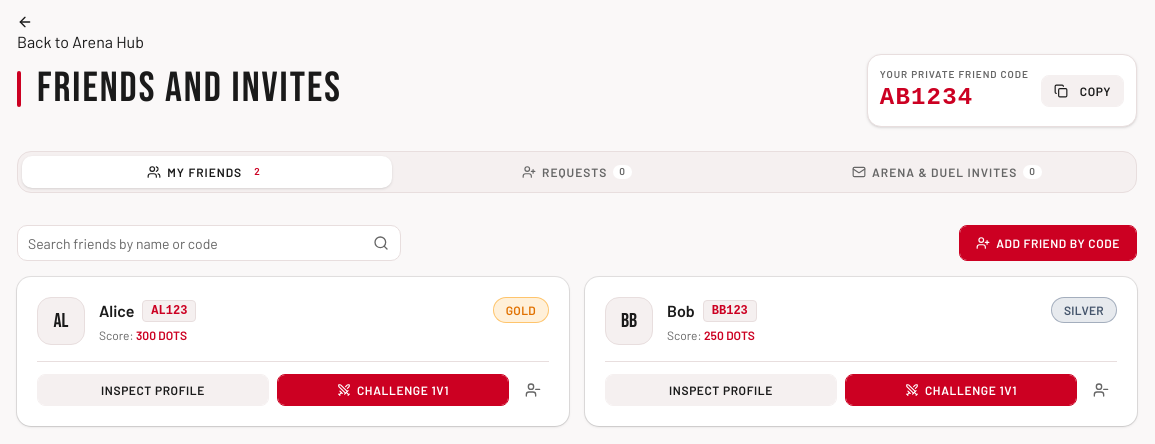
PgFriends › filters friends by search
expect the text "Alice" is shown: met, box [99, 299, 134, 323]
Step 1. Type "ali" into the field with placeholder "Search friends by name or code" → (209, 243), box [17, 225, 401, 261]
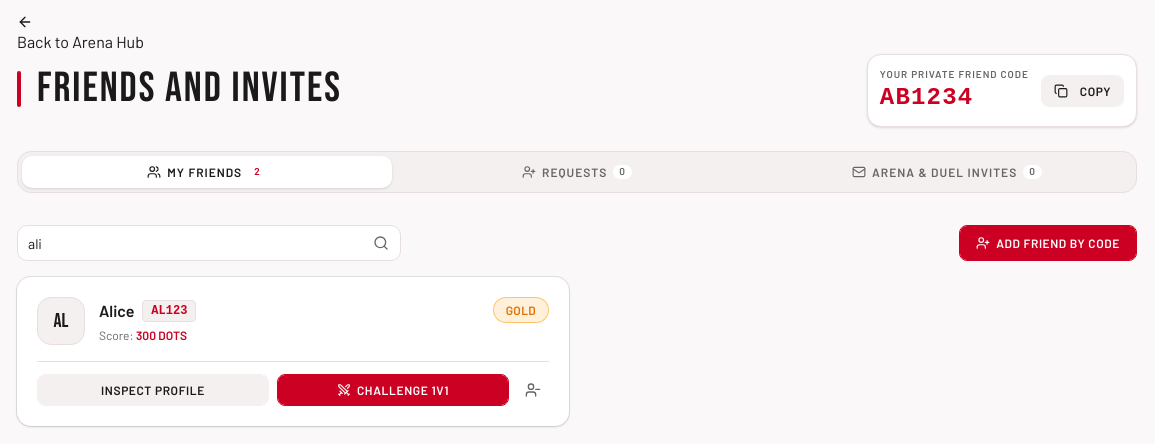
expect the text "Alice" is shown: met, box [99, 299, 134, 323]
expect the text "Bob" is gone: met
